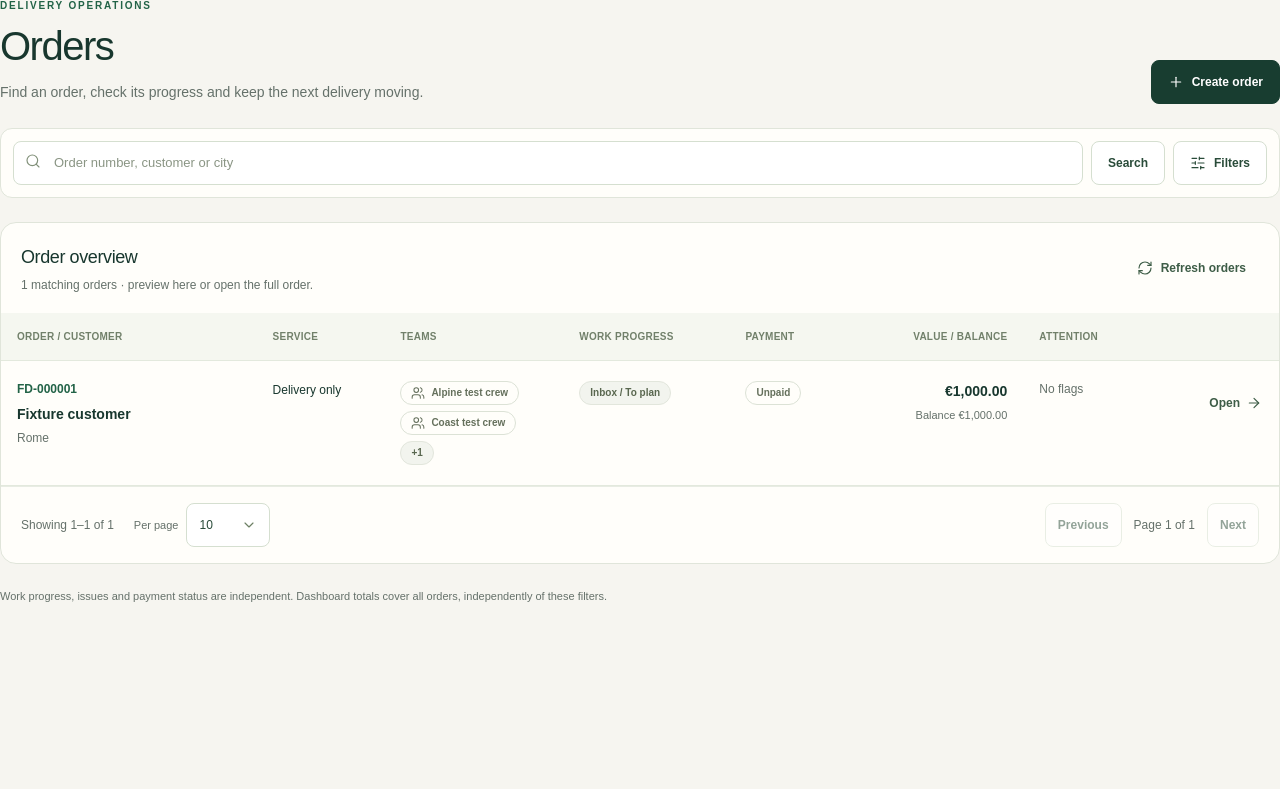
shows assigned teams from the list response and all teams from protected detail preview
Expected: the column heading "Teams" is shown, [384, 313, 563, 361]
Expected: the text "Alpine test crew" is shown, [431, 386, 508, 400]
Click the button "FD-000001". click: click(47, 389)
box: [17, 381, 77, 397]
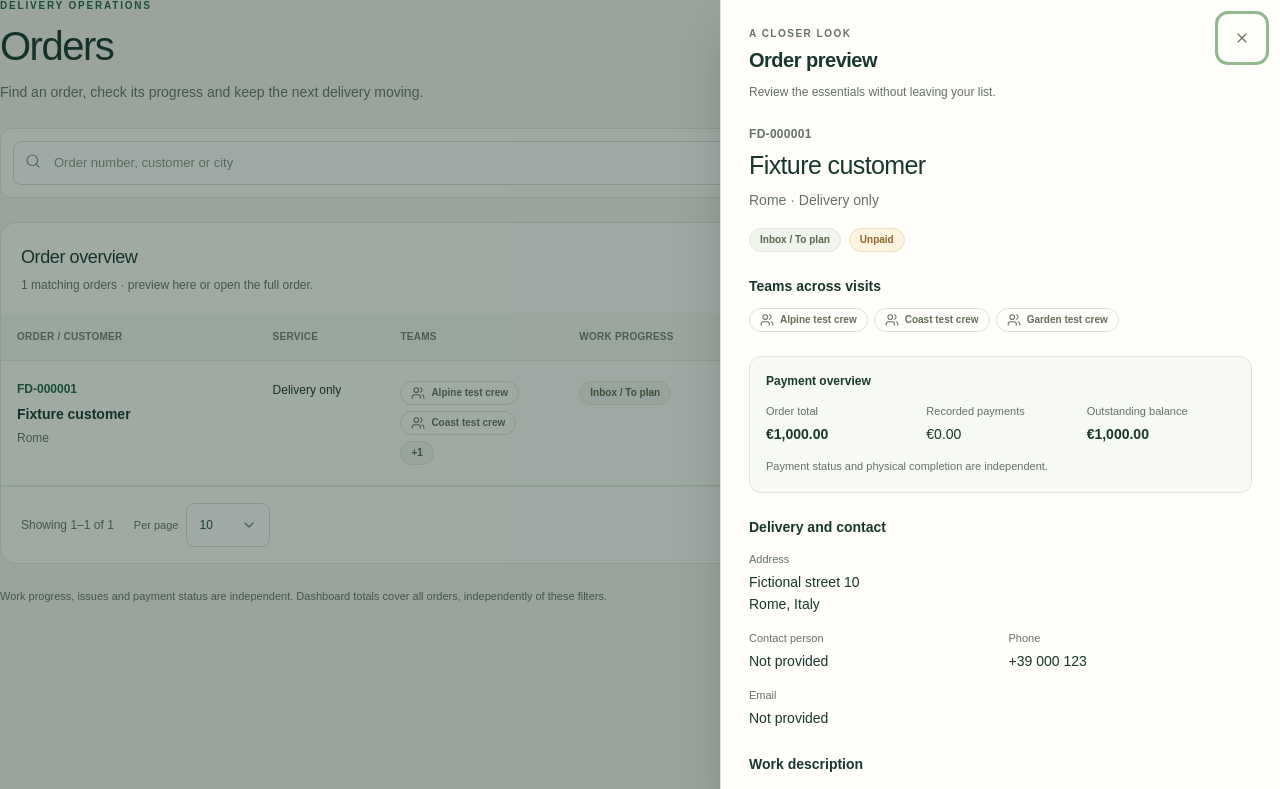
Expected: the text "Alpine test crew" is shown, [780, 313, 857, 327]
Expected: the text "Coast test crew" is shown, [905, 313, 979, 327]
Expected: the text "Garden test crew" is shown, [1027, 313, 1108, 327]
